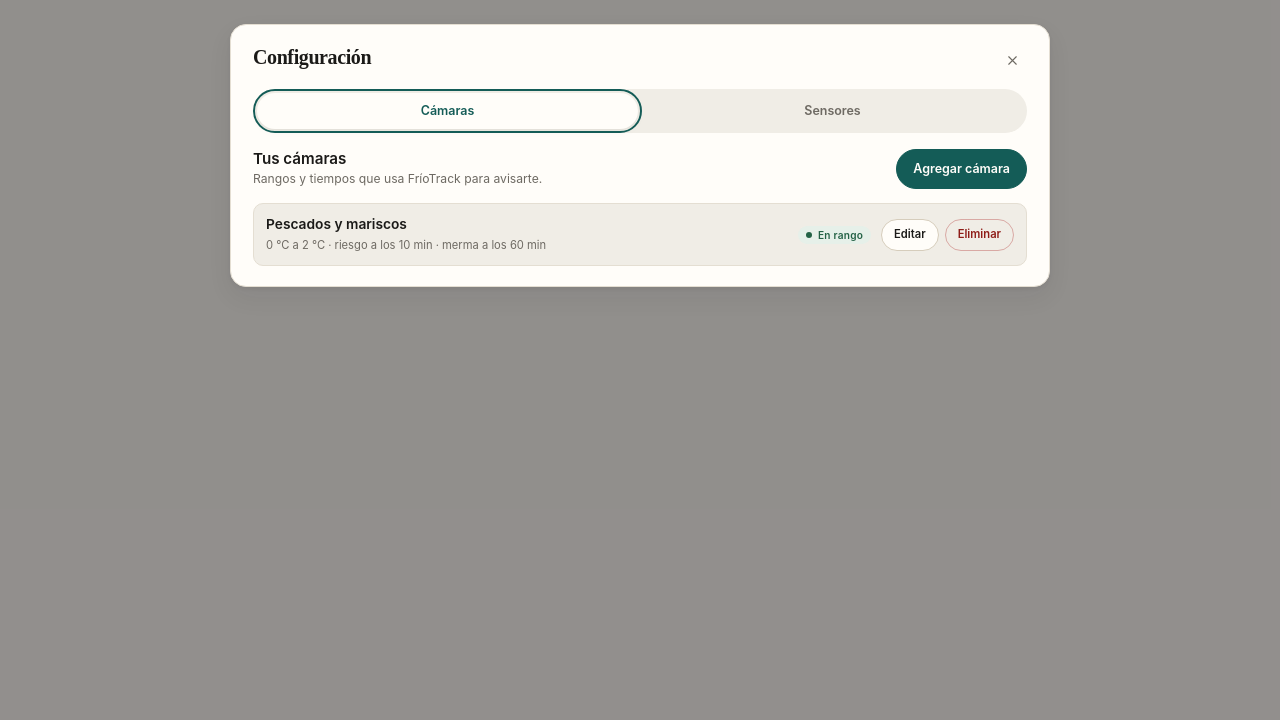
Configuracion › no borra una cámara con datos y muestra el 409 del backend
This screenshot has width=1280, height=720.
Click the button with aria-label "Eliminar cámara Pescados y mariscos" at coordinates (979, 235), box [945, 219, 1014, 251]
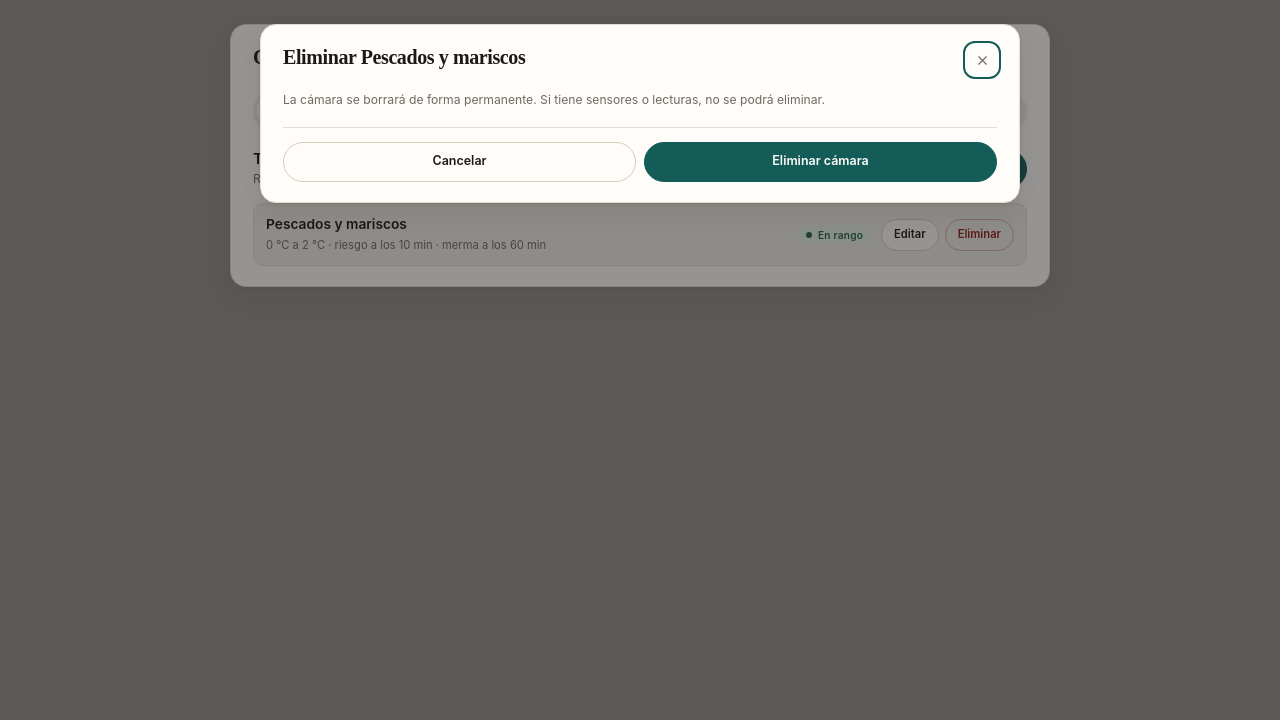
Click the button "Eliminar cámara" at coordinates (820, 162), box [644, 142, 997, 182]
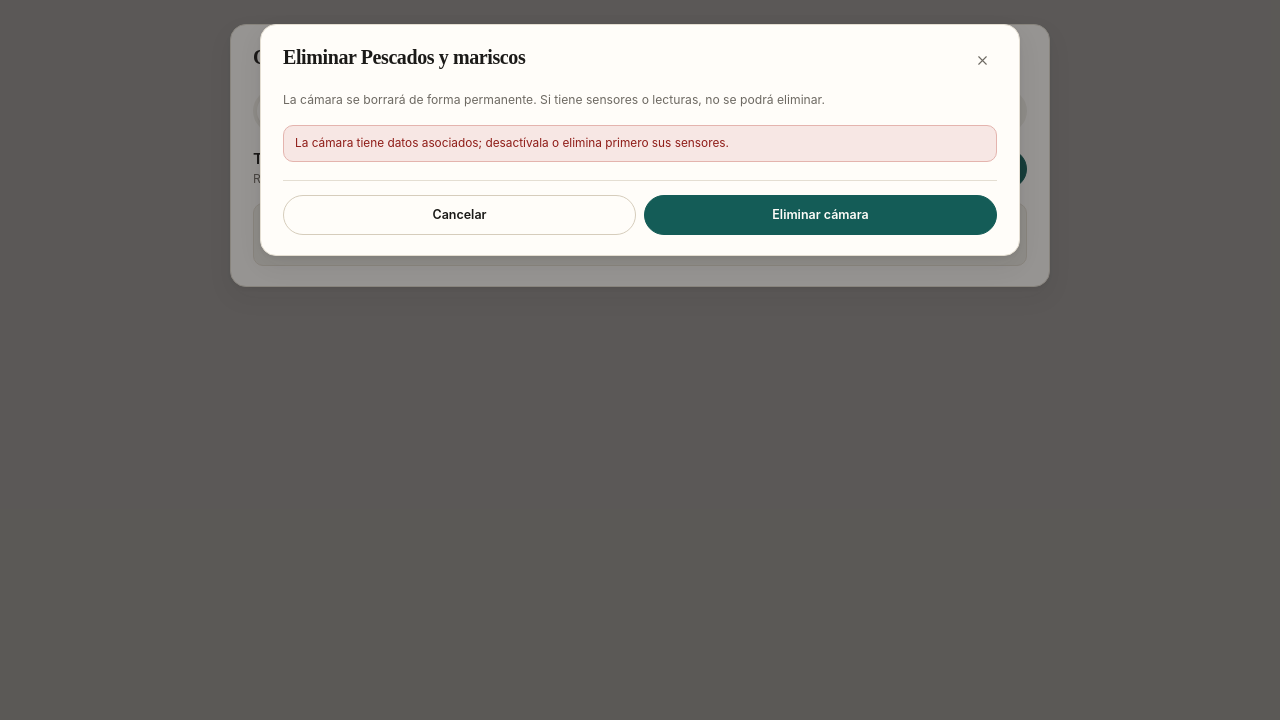
Expected: the button with aria-label "Eliminar cámara Pescados y mariscos" is shown, [945, 219, 1014, 251]
Result: the text "La cámara tiene datos asociados; desactívala o elimina primero sus sensores." is shown at [283, 125, 997, 162]
